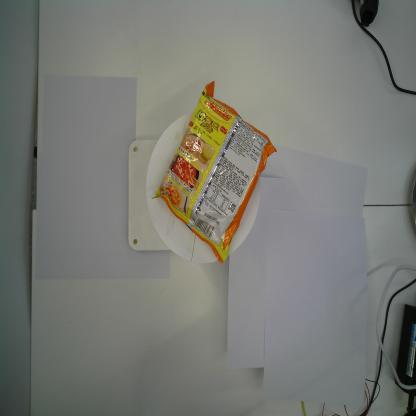Instant Noodles: (150, 79, 279, 268)
